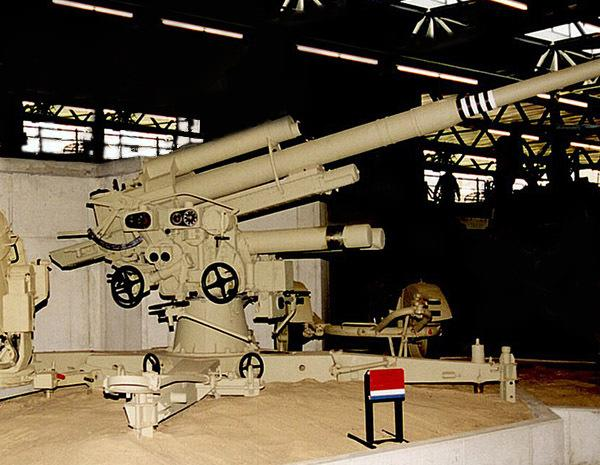MIL_SPG: (49, 59, 600, 435)
